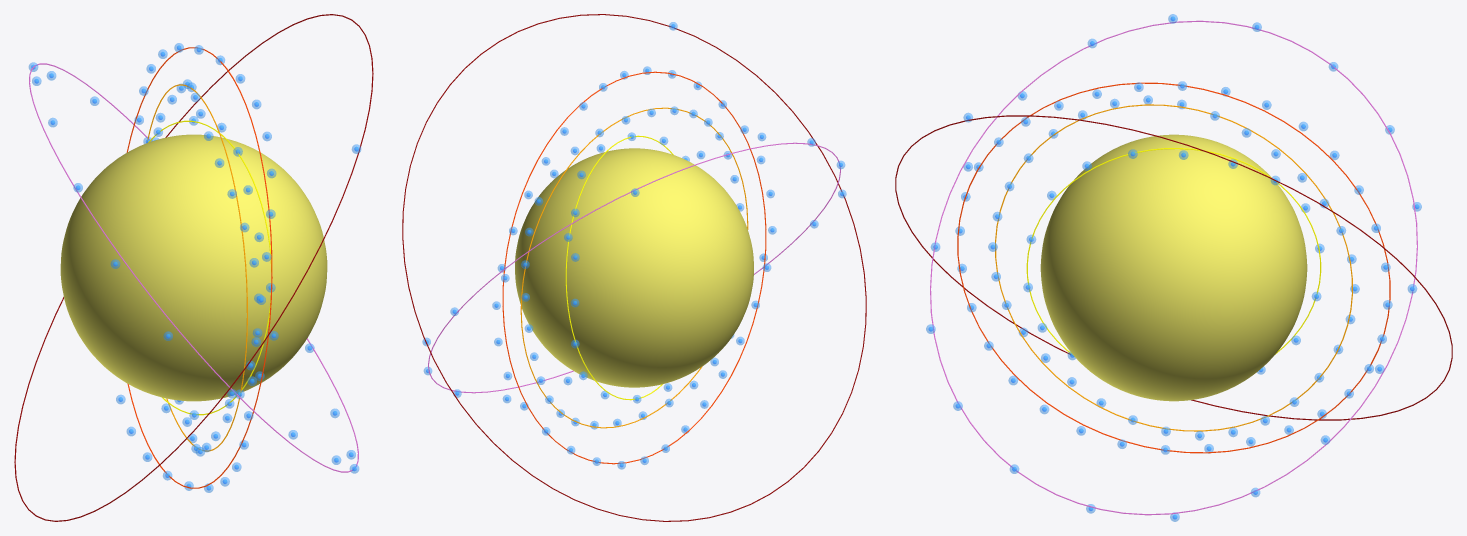
3 views of the same model, side by side, from view 1: azimuth 30°, elevation 25°; view 2: azimuth 150°, elevation 25°; view 3: azimuth 270°, elevation 25° (orthographic). The views are drawn at different scales.
Visible parts, largest first — view 1: Rg, object 228, object 191, object 126, object 61, object 24; view 2: Rg, object 228, object 126, object 191, object 61, object 24; view 3: Rg, object 191, object 126, object 228, object 61, object 24.
Part boxes in pixels (bbox=[...]): Rg: bbox=[60, 134, 327, 401]; object 228: bbox=[14, 14, 373, 521]; object 191: bbox=[29, 63, 358, 472]; object 126: bbox=[126, 47, 272, 488]; object 61: bbox=[147, 84, 247, 451]; object 24: bbox=[148, 120, 272, 415]; Rg: bbox=[515, 148, 753, 387]; object 228: bbox=[402, 14, 866, 521]; object 126: bbox=[502, 71, 766, 464]; object 191: bbox=[428, 142, 840, 393]; object 61: bbox=[520, 107, 748, 428]; object 24: bbox=[565, 135, 673, 400]; Rg: bbox=[1040, 134, 1307, 401]; object 191: bbox=[930, 20, 1417, 515]; object 126: bbox=[957, 82, 1390, 453]; object 228: bbox=[895, 115, 1452, 420]; object 61: bbox=[995, 104, 1352, 431]; object 24: bbox=[1026, 148, 1321, 354].
Bounding box in the file's own units: 6.55 × 7.69 × 9.11.
